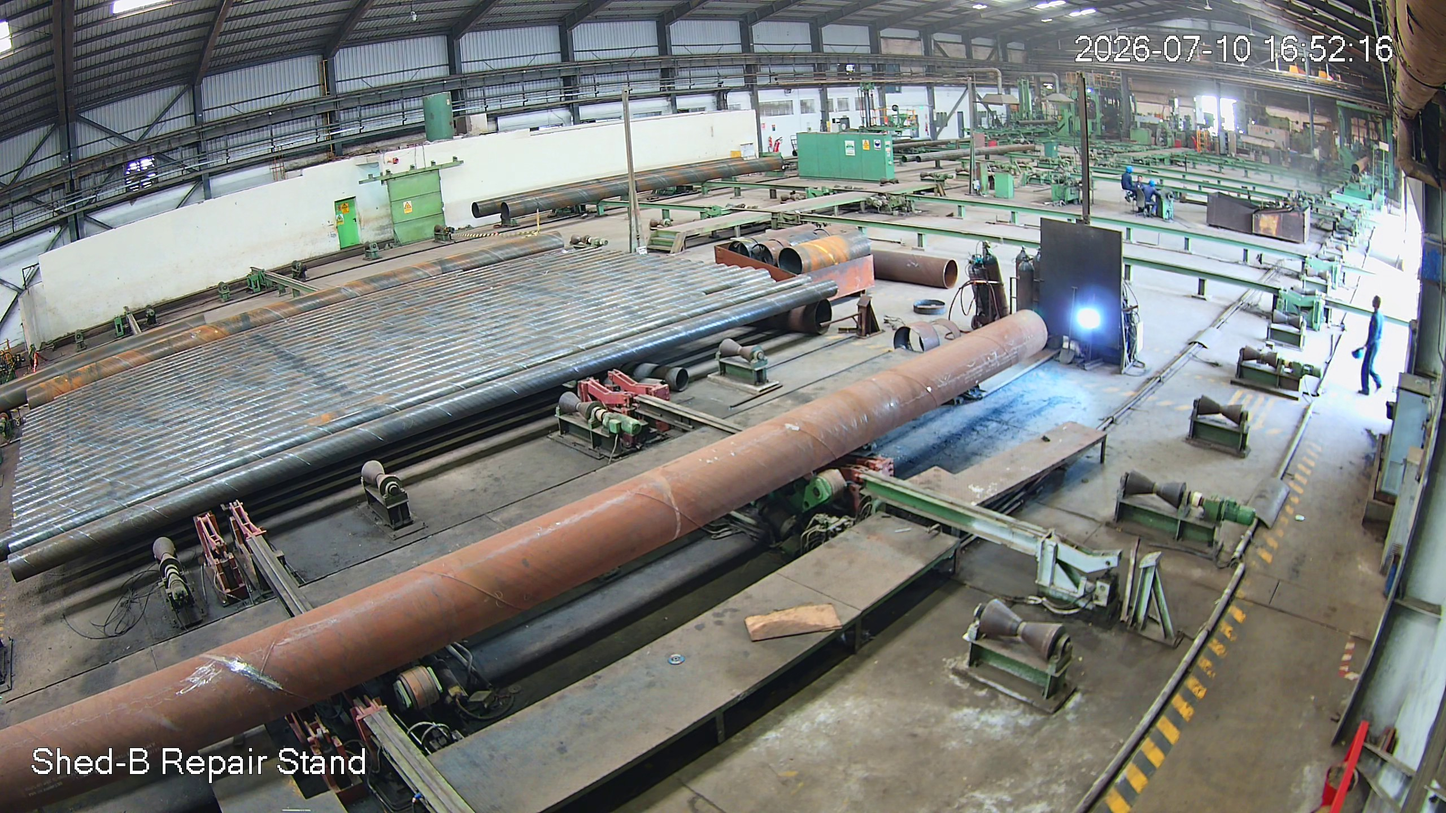Person: (1354, 294, 1385, 405)
